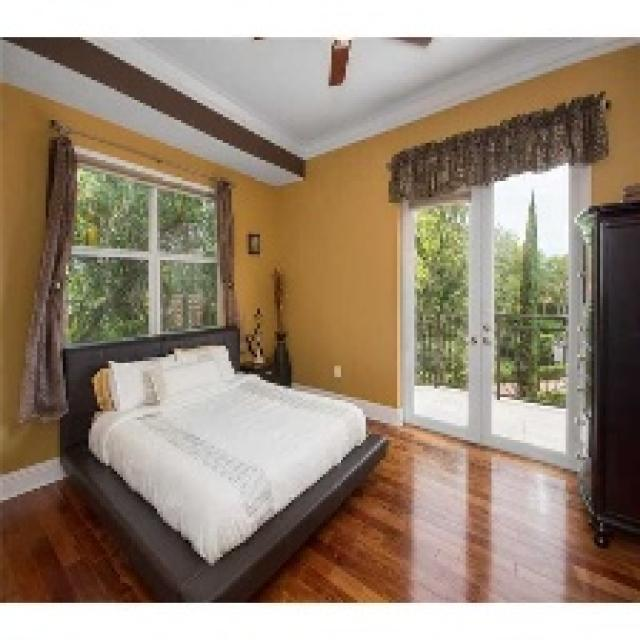Bed: (57, 323, 389, 600)
